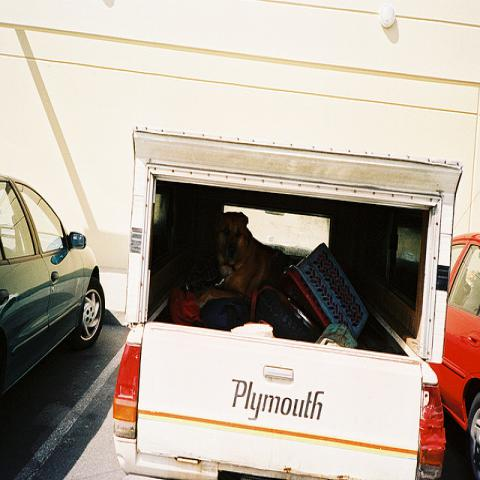car: (0, 171, 107, 419), (439, 230, 479, 479)
truck: (112, 124, 456, 479)
